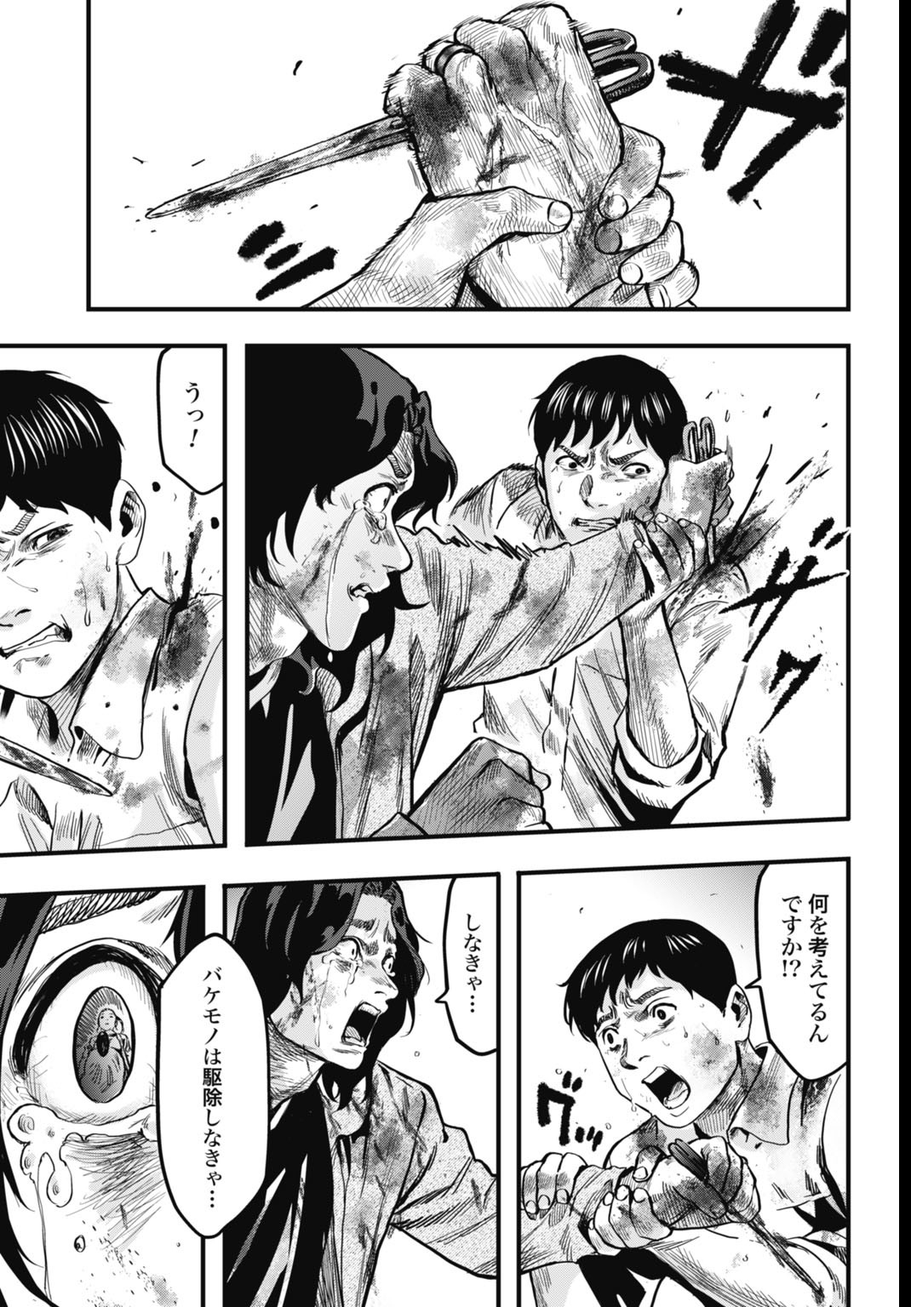bubbles: (149, 926, 283, 1246), (742, 863, 850, 1087), (424, 878, 500, 1059), (154, 345, 227, 498)
